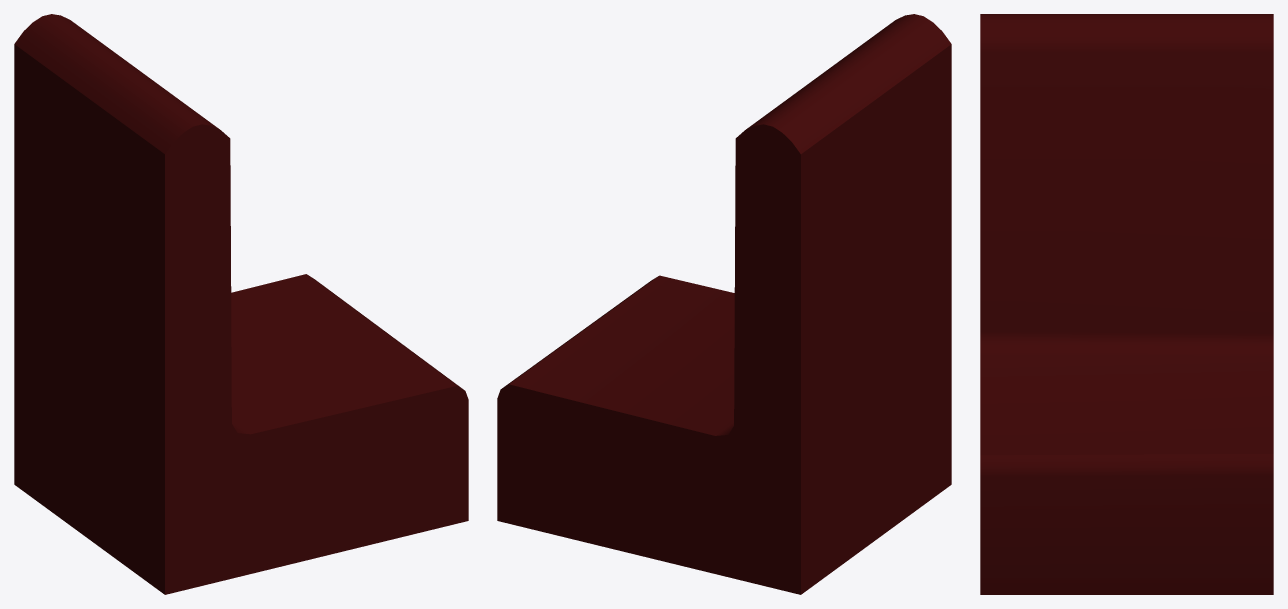
The model's file is Butaca.fbx.
The picture shows the model from 3 angles, left to right: view 1: azimuth 30°, elevation 25°; view 2: azimuth 150°, elevation 25°; view 3: azimuth 270°, elevation 25°; orthographic projection. The views are drawn at different scales.
Visible parts, largest first — view 1: Butaca; view 2: Butaca; view 3: Butaca.
Boxes of the visible parts, <box> form: Butaca: <box>14,14,468,594</box>; Butaca: <box>497,14,951,594</box>; Butaca: <box>980,14,1273,594</box>.
Bounding box in the file's own units: 2.28 × 3.31 × 1.96.
